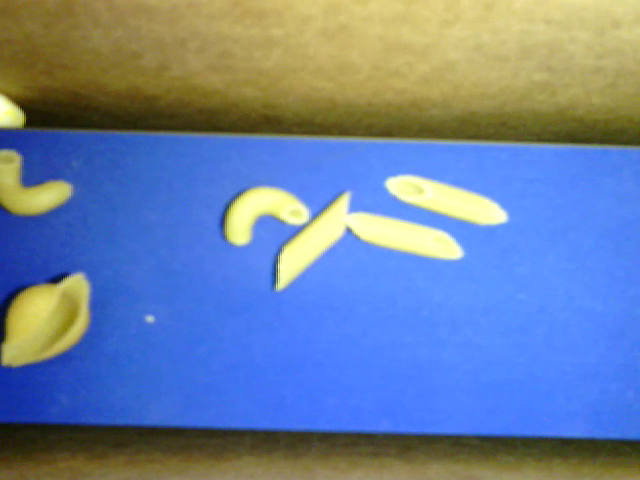elbow: (220, 187, 308, 248), (1, 148, 73, 216)
penne: (273, 191, 351, 291), (384, 174, 509, 228), (346, 212, 464, 261)
shell: (1, 272, 93, 367)
